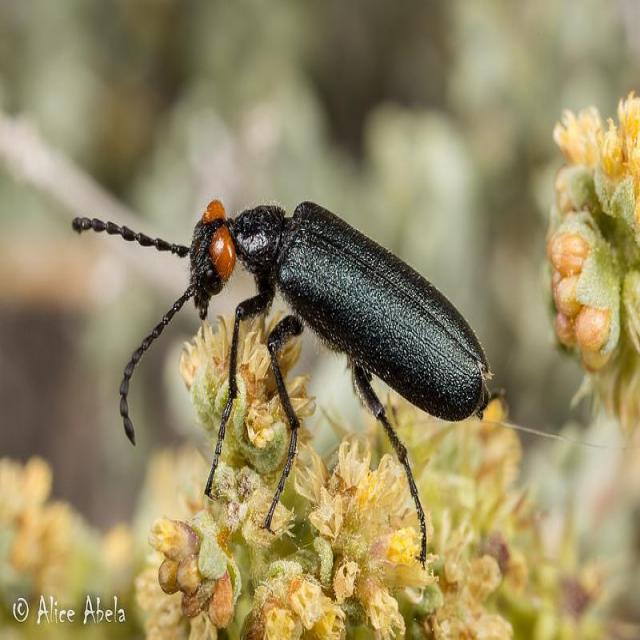BlisterBeetle-Adult-: (56, 194, 493, 571)
